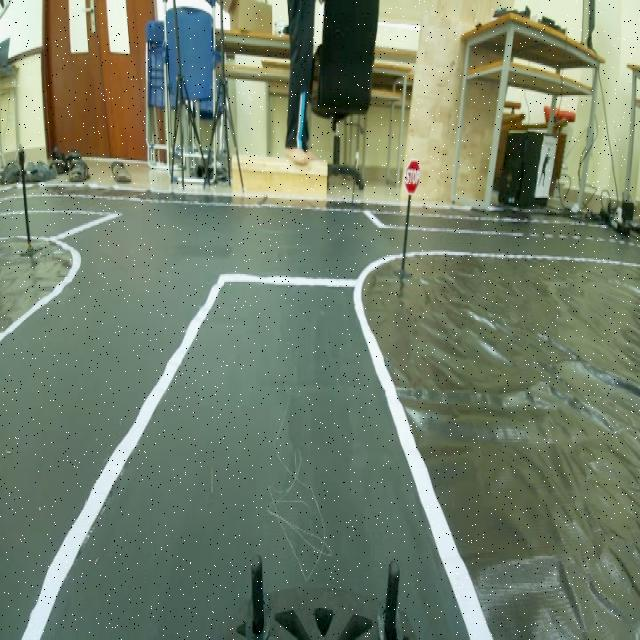stop: (402, 154, 422, 195)
